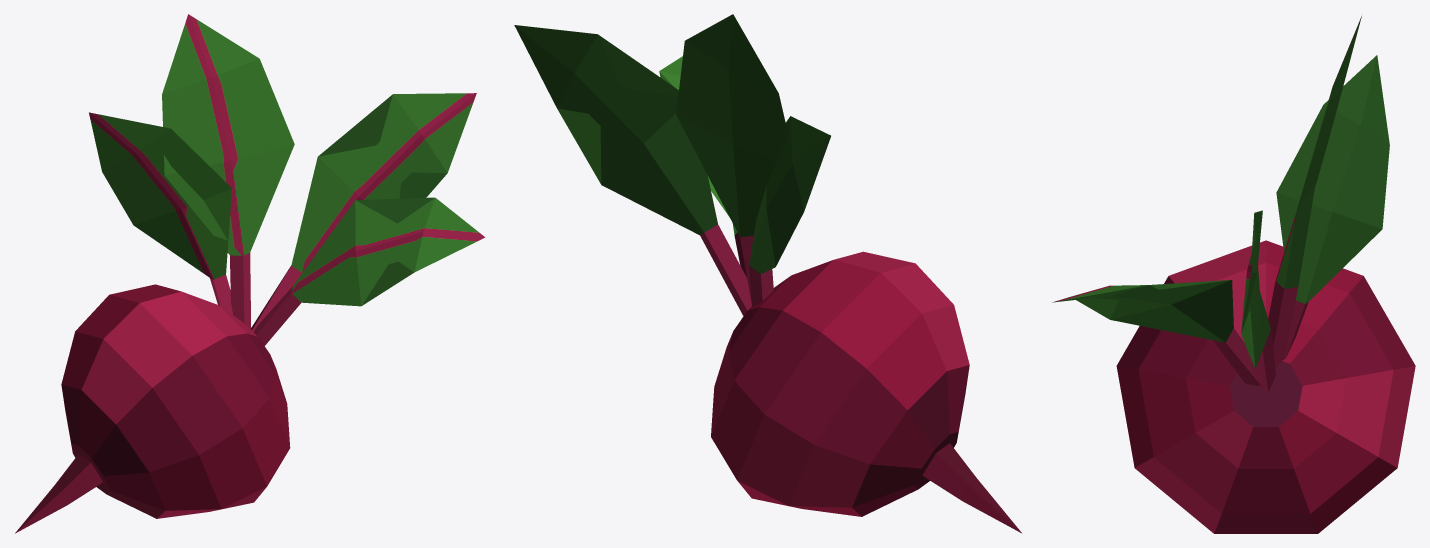
File: FMS_Veg_Beet.fbx
The picture shows the model from 3 angles, left to right: view 1: azimuth 30°, elevation 25°; view 2: azimuth 150°, elevation 25°; view 3: azimuth 270°, elevation 25°; orthographic projection. The views are drawn at different scales.
Visible parts, largest first — view 1: item_produce_beet; view 2: item_produce_beet; view 3: item_produce_beet.
Part boxes in pixels (left/top/right/bottom): item_produce_beet: left=15, top=14, right=485, bottom=533; item_produce_beet: left=514, top=14, right=1021, bottom=533; item_produce_beet: left=1052, top=16, right=1415, bottom=533.
Size of the model in its own units: 0.1665 by 0.1545 by 0.0984.
Materials: 1 (1 with a texture image).
